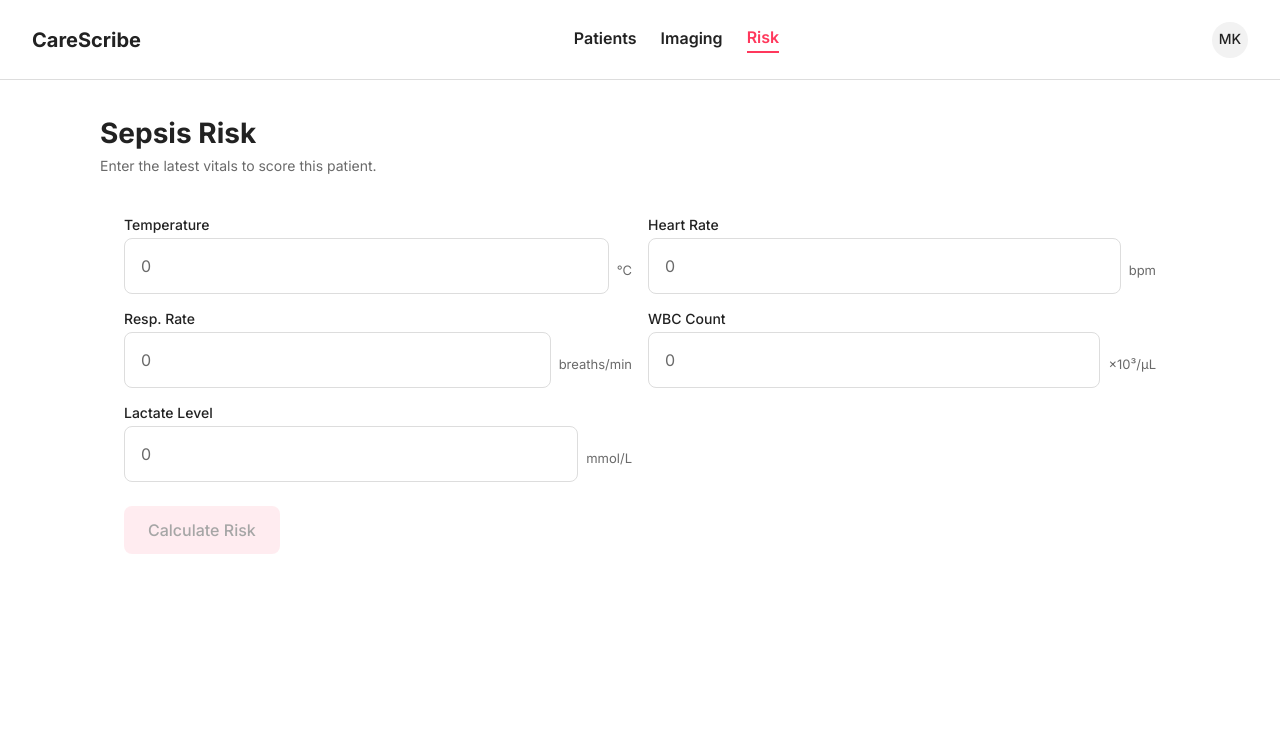
Test case: sepsis risk screen › sends vitals + patient_id in the request body
Type "38.5" into the number field labelled "Temperature". click: (366, 266)
box: x1=124 y1=238 x2=609 y2=294
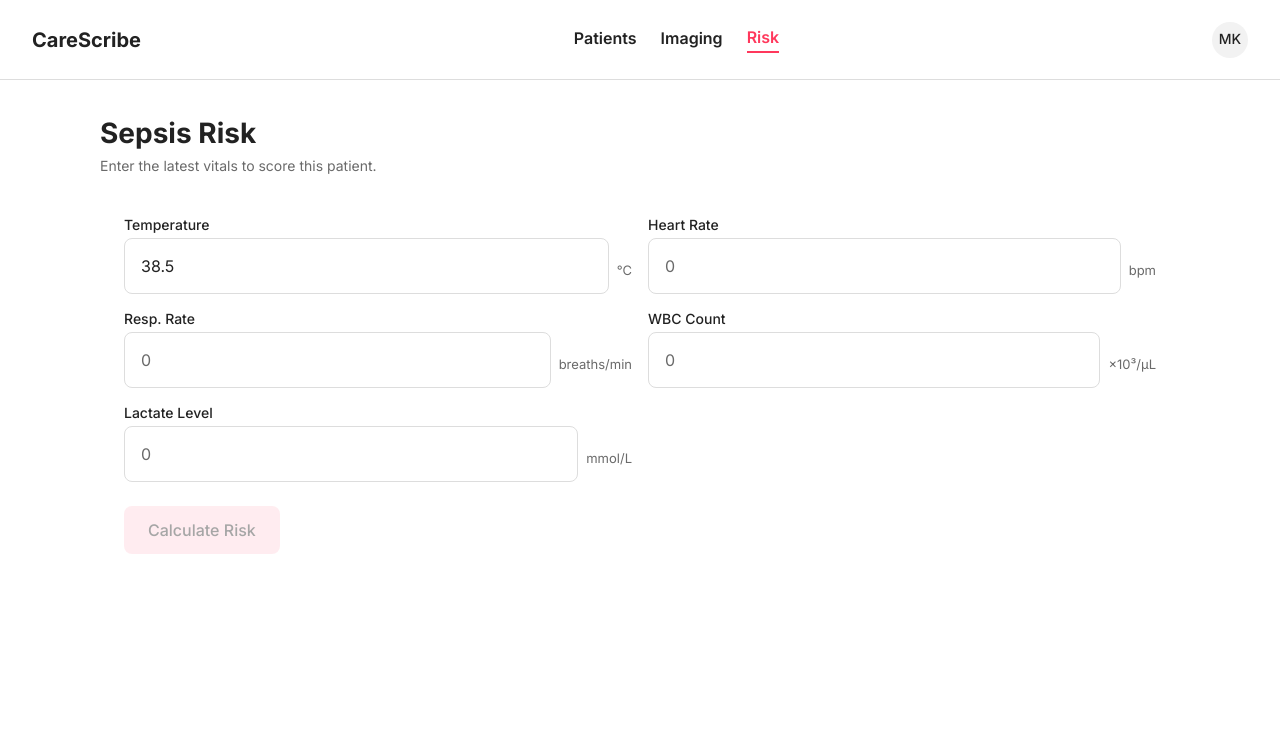
Type "110" into the number field labelled "Heart Rate". click: (884, 266)
box: x1=648 y1=238 x2=1121 y2=294
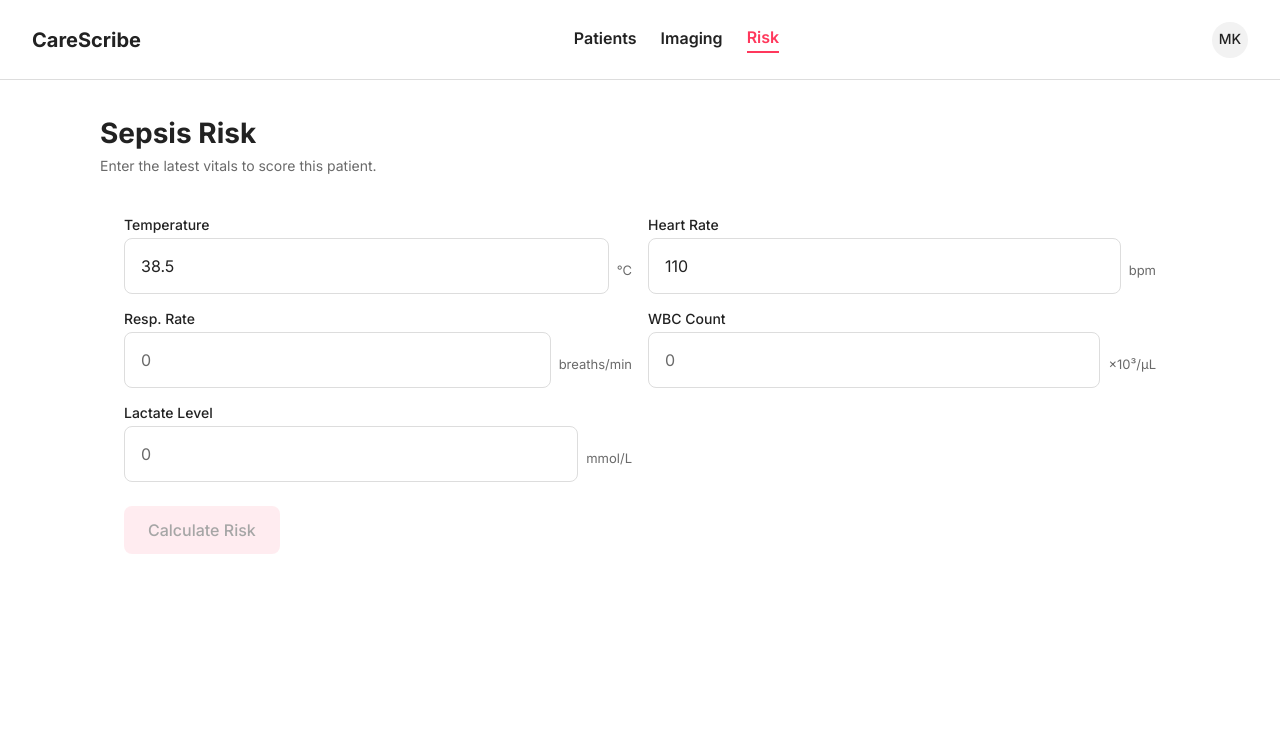
Type "24" into the number field labelled "Resp. Rate". click: (337, 360)
box: x1=124 y1=332 x2=551 y2=388
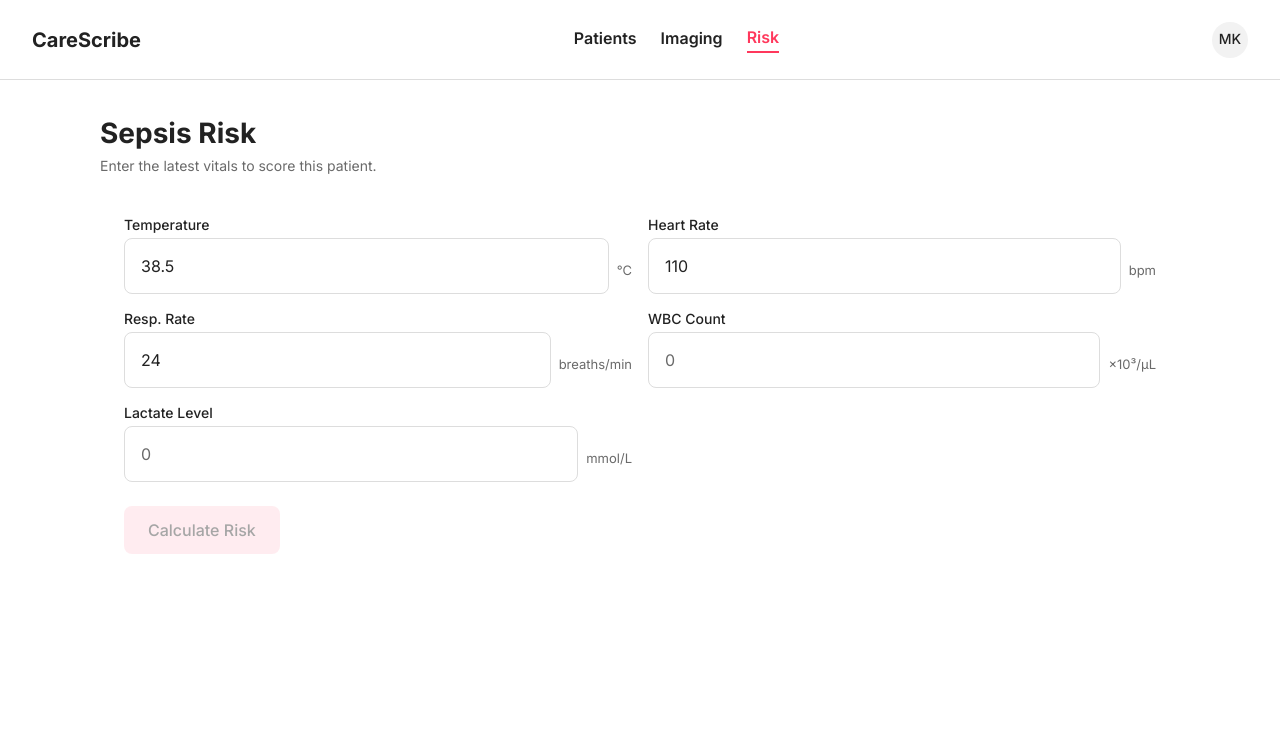
Type "14" into the number field labelled "WBC Count". click: (874, 360)
box: x1=648 y1=332 x2=1100 y2=388
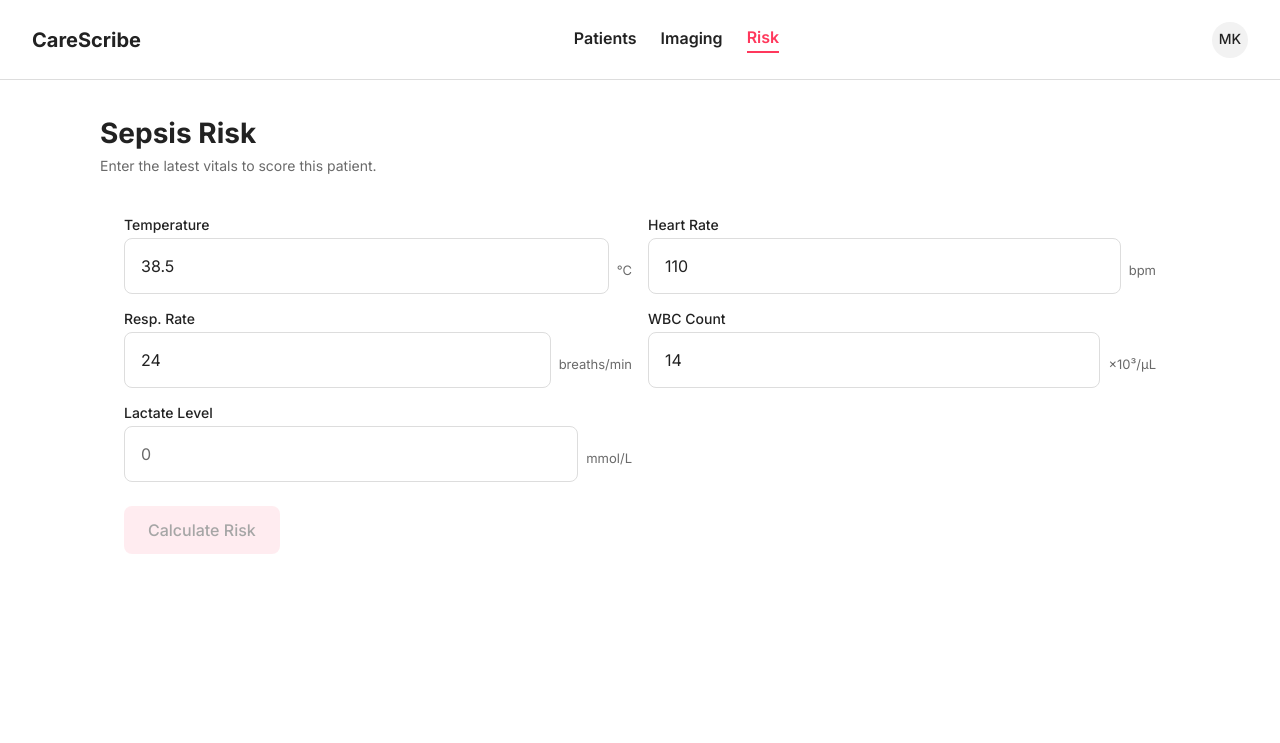
Type "3.2" into the number field labelled "Lactate Level". click: (351, 454)
box: x1=124 y1=426 x2=578 y2=482
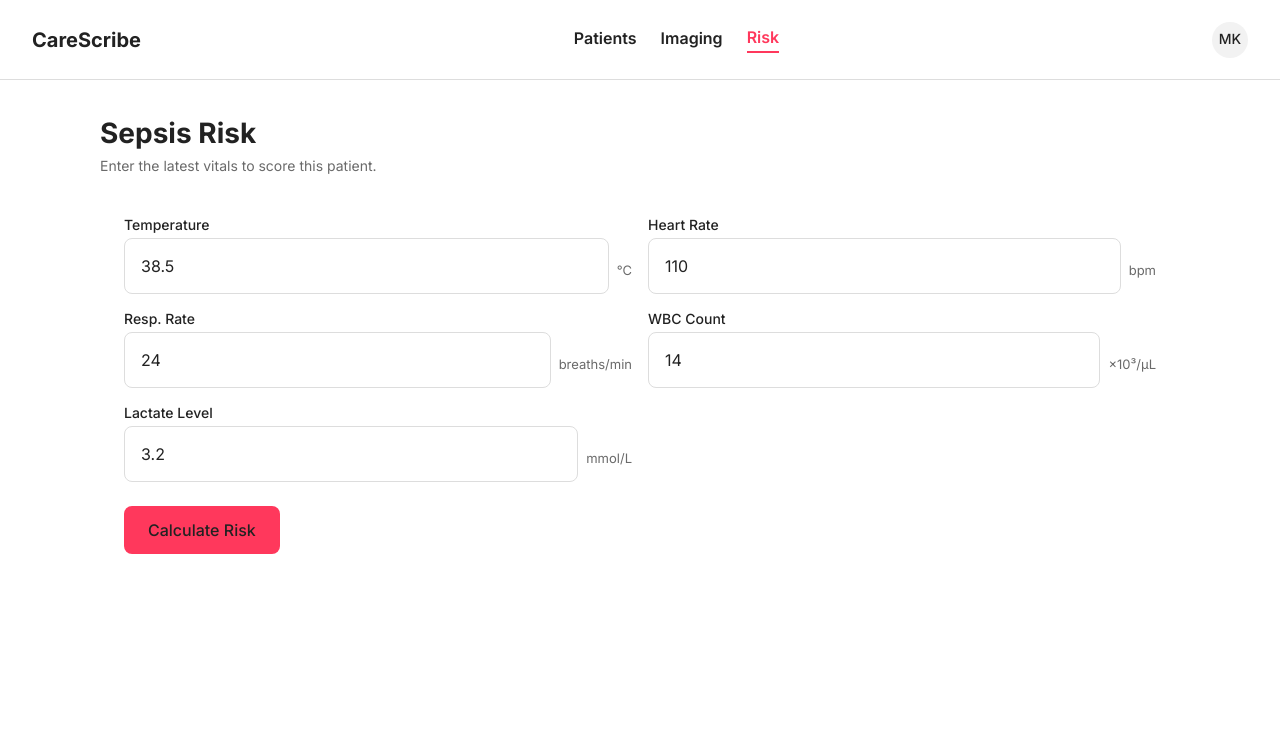
Click the button "Calculate Risk". click: (202, 530)
box: x1=124 y1=506 x2=280 y2=554
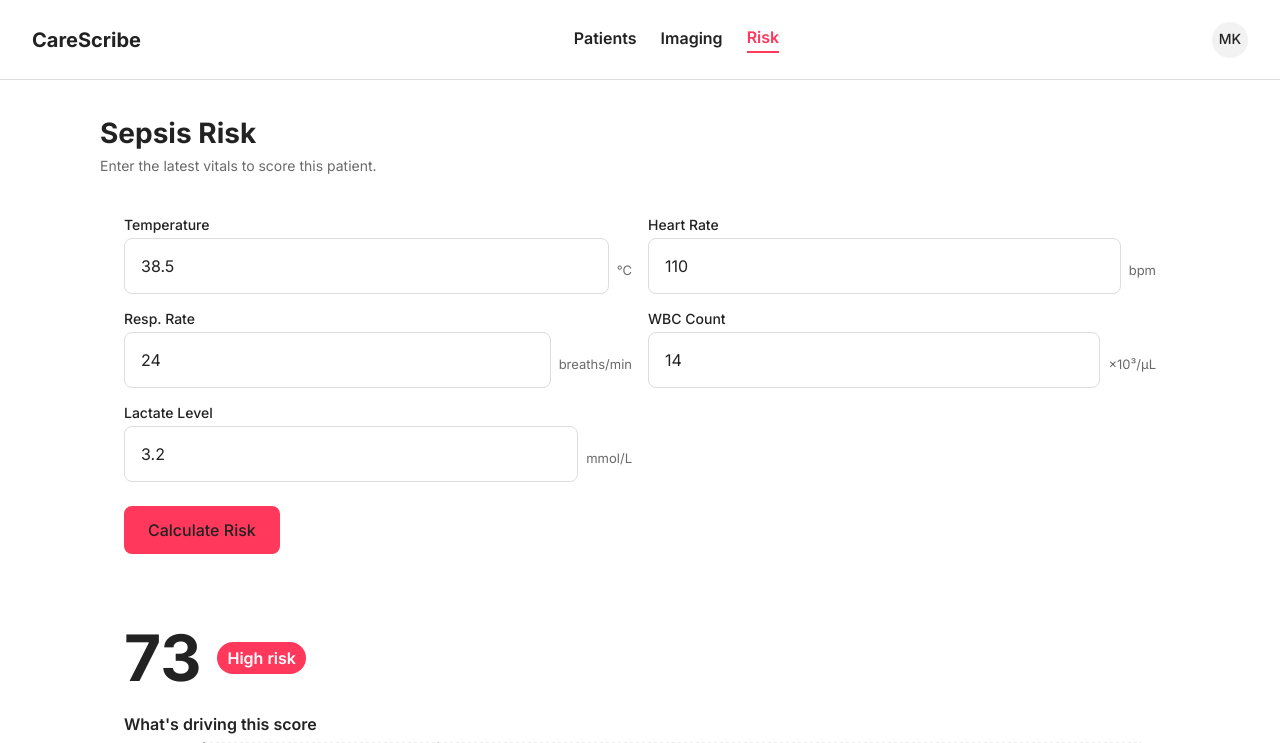
Check: the text "73" is shown, box x1=124 y1=626 x2=202 y2=690
